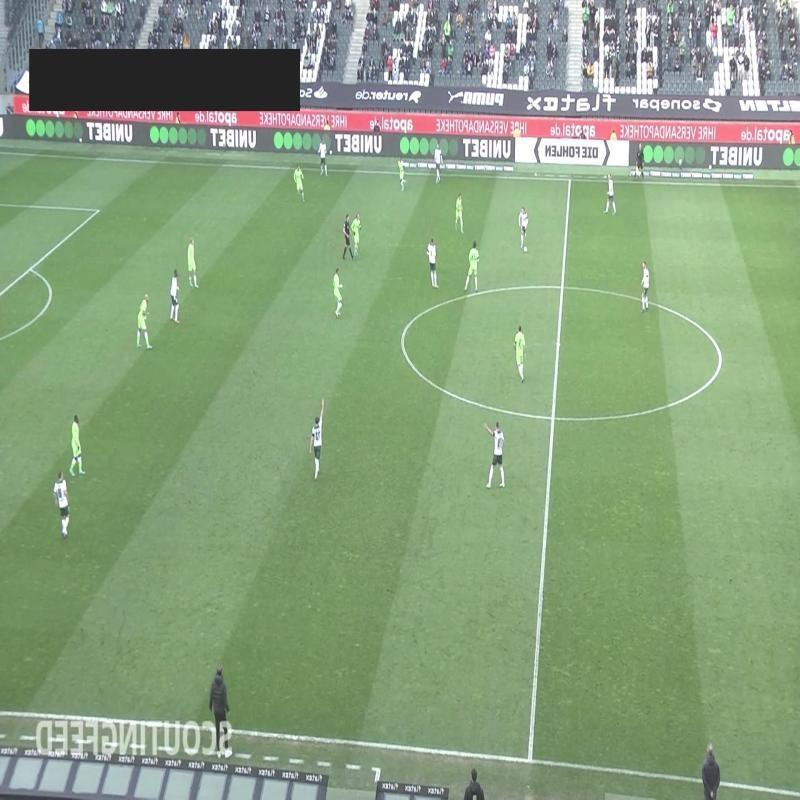10: (22, 260, 36, 274)
13: (563, 172, 577, 186)
14: (556, 280, 570, 294)
15: (546, 410, 560, 424)
16: (522, 751, 538, 769)
9: (90, 203, 103, 216)
c: (712, 346, 732, 372), (396, 330, 410, 344)
